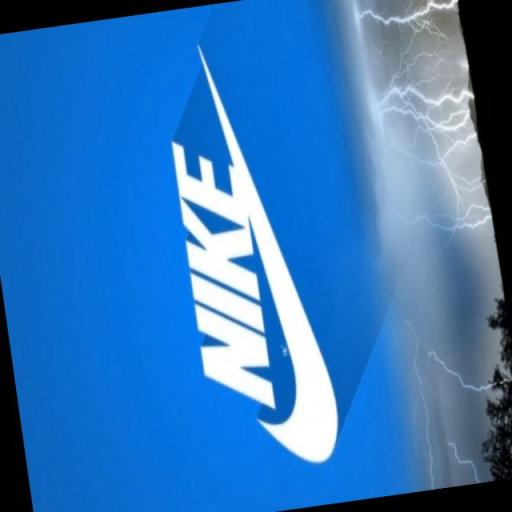Nike: (222, 96, 344, 471), (168, 120, 280, 418)
